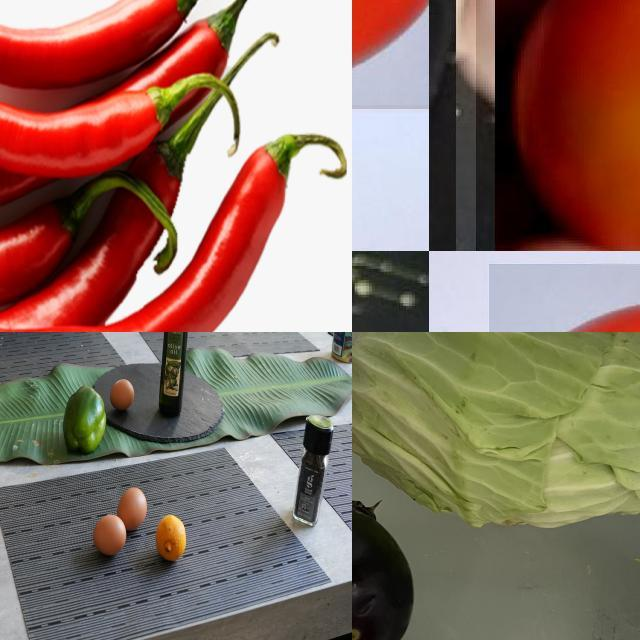bell_pepper: (287, 412, 341, 537), (61, 383, 111, 458)
cabbage: (353, 333, 640, 537)
egg: (97, 514, 127, 560), (109, 376, 139, 416), (118, 487, 146, 527)
eggplant: (353, 495, 418, 640)
tomato: (477, 1, 640, 252)
